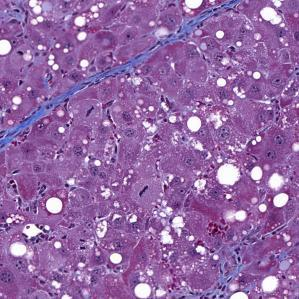fibrosis: (24, 77, 107, 123)
